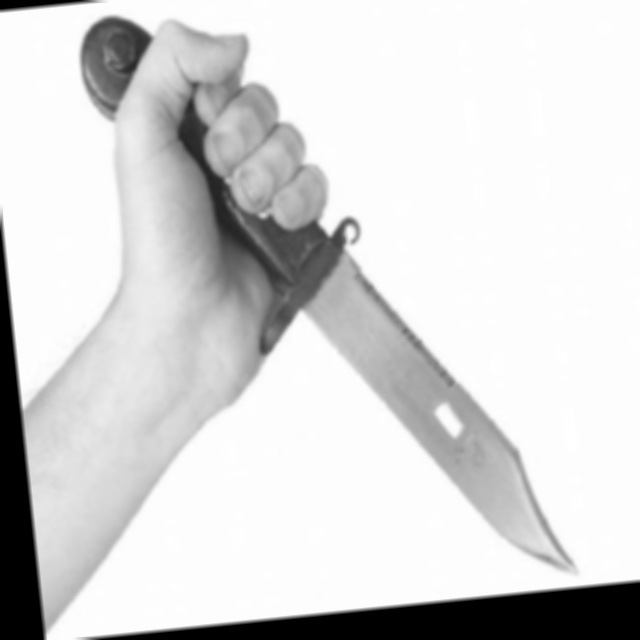Sharp-Object: (76, 0, 578, 621)
